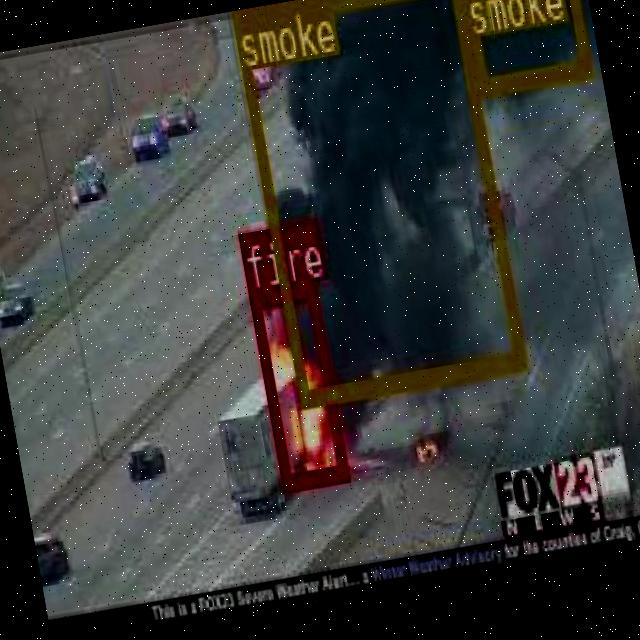fire: (245, 276, 347, 486)
smoke: (229, 0, 522, 402), (457, 0, 590, 91)
